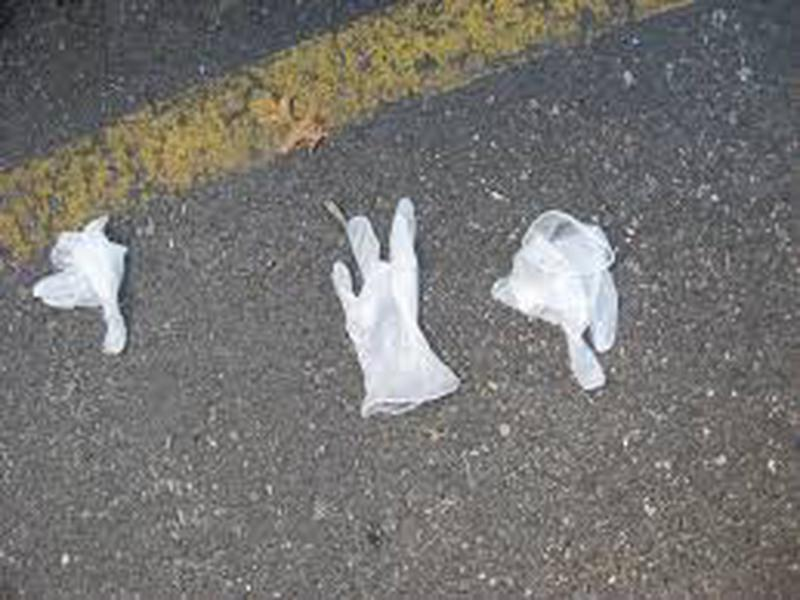gloves: (313, 197, 465, 417), (487, 205, 626, 394), (31, 214, 134, 356)
